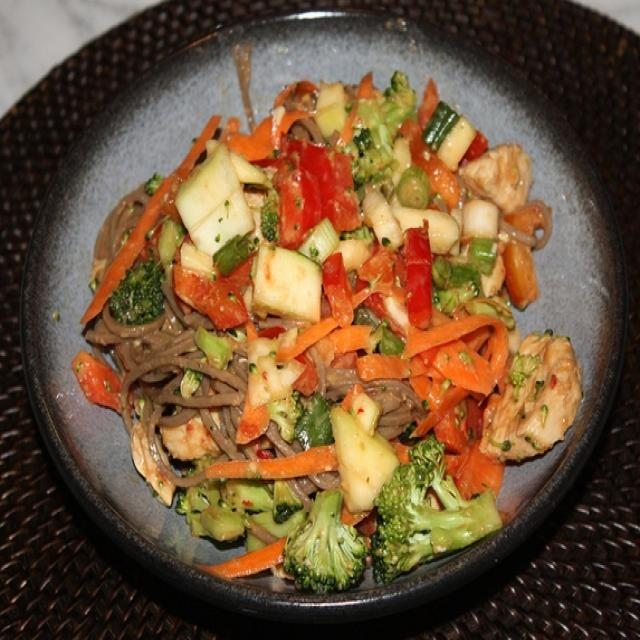鸡肉料理 含炸鸡: (61, 64, 583, 588)
